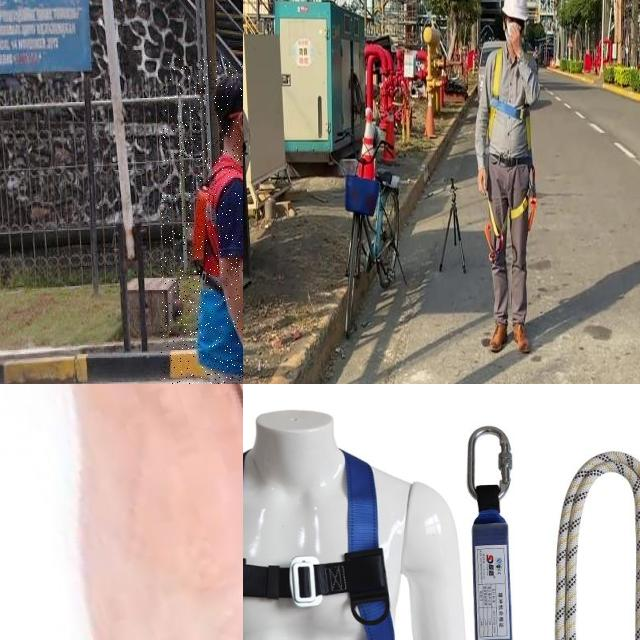Barefoots: (14, 384, 243, 640)
Harness: (243, 449, 413, 640), (489, 48, 531, 152), (484, 191, 538, 262)
person: (161, 57, 243, 384)
vest: (195, 153, 243, 374)
